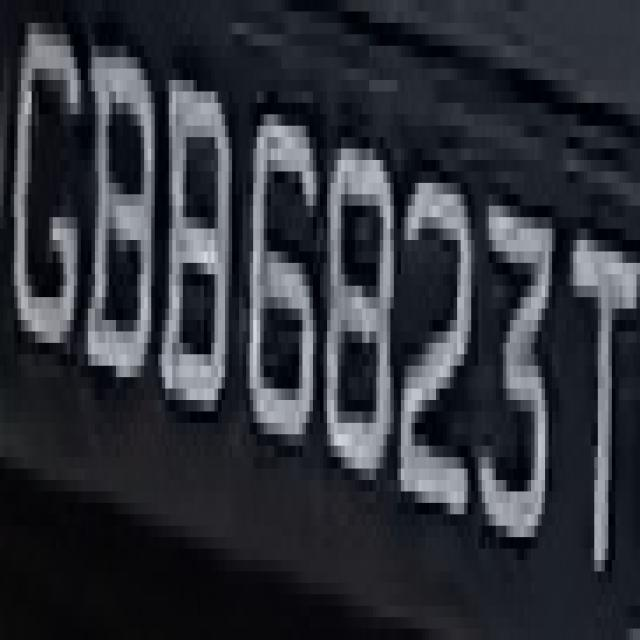2: (394, 126, 475, 571)
3: (471, 160, 559, 537)
6: (242, 57, 316, 457)
8: (313, 114, 404, 503)
B: (165, 46, 236, 423), (84, 34, 155, 389)
G: (14, 23, 84, 354)
T: (559, 183, 633, 606)
